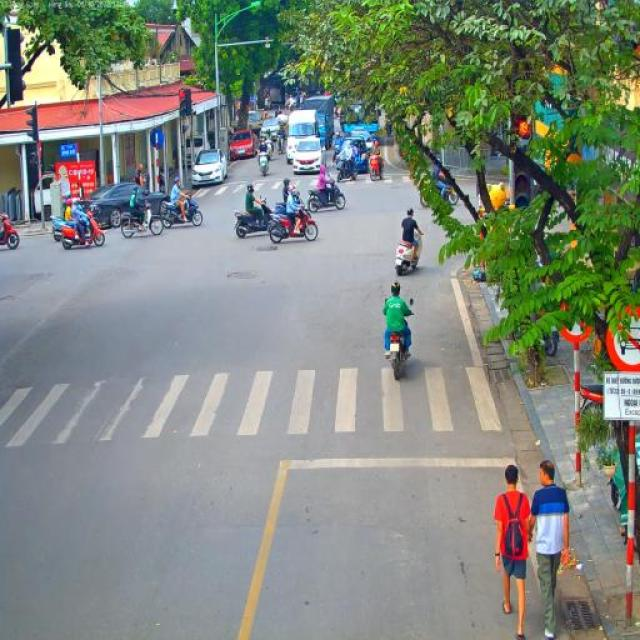car: (74, 182, 176, 228), (191, 148, 228, 186), (293, 136, 327, 176), (229, 130, 256, 160), (258, 118, 280, 142), (246, 110, 262, 130)
motorcycle: (385, 298, 414, 382), (266, 206, 319, 243), (233, 196, 276, 239), (61, 209, 106, 250), (121, 201, 163, 239), (305, 176, 347, 212), (160, 198, 204, 228), (394, 233, 424, 276), (430, 177, 459, 206), (578, 384, 604, 416), (0, 211, 21, 250), (538, 321, 560, 357), (50, 215, 74, 243), (336, 152, 358, 182), (330, 144, 346, 168), (370, 154, 384, 181), (258, 151, 270, 177), (266, 140, 274, 160), (278, 134, 286, 154)
truck: (299, 96, 335, 152), (340, 102, 380, 148), (286, 110, 320, 164), (338, 135, 376, 174)
